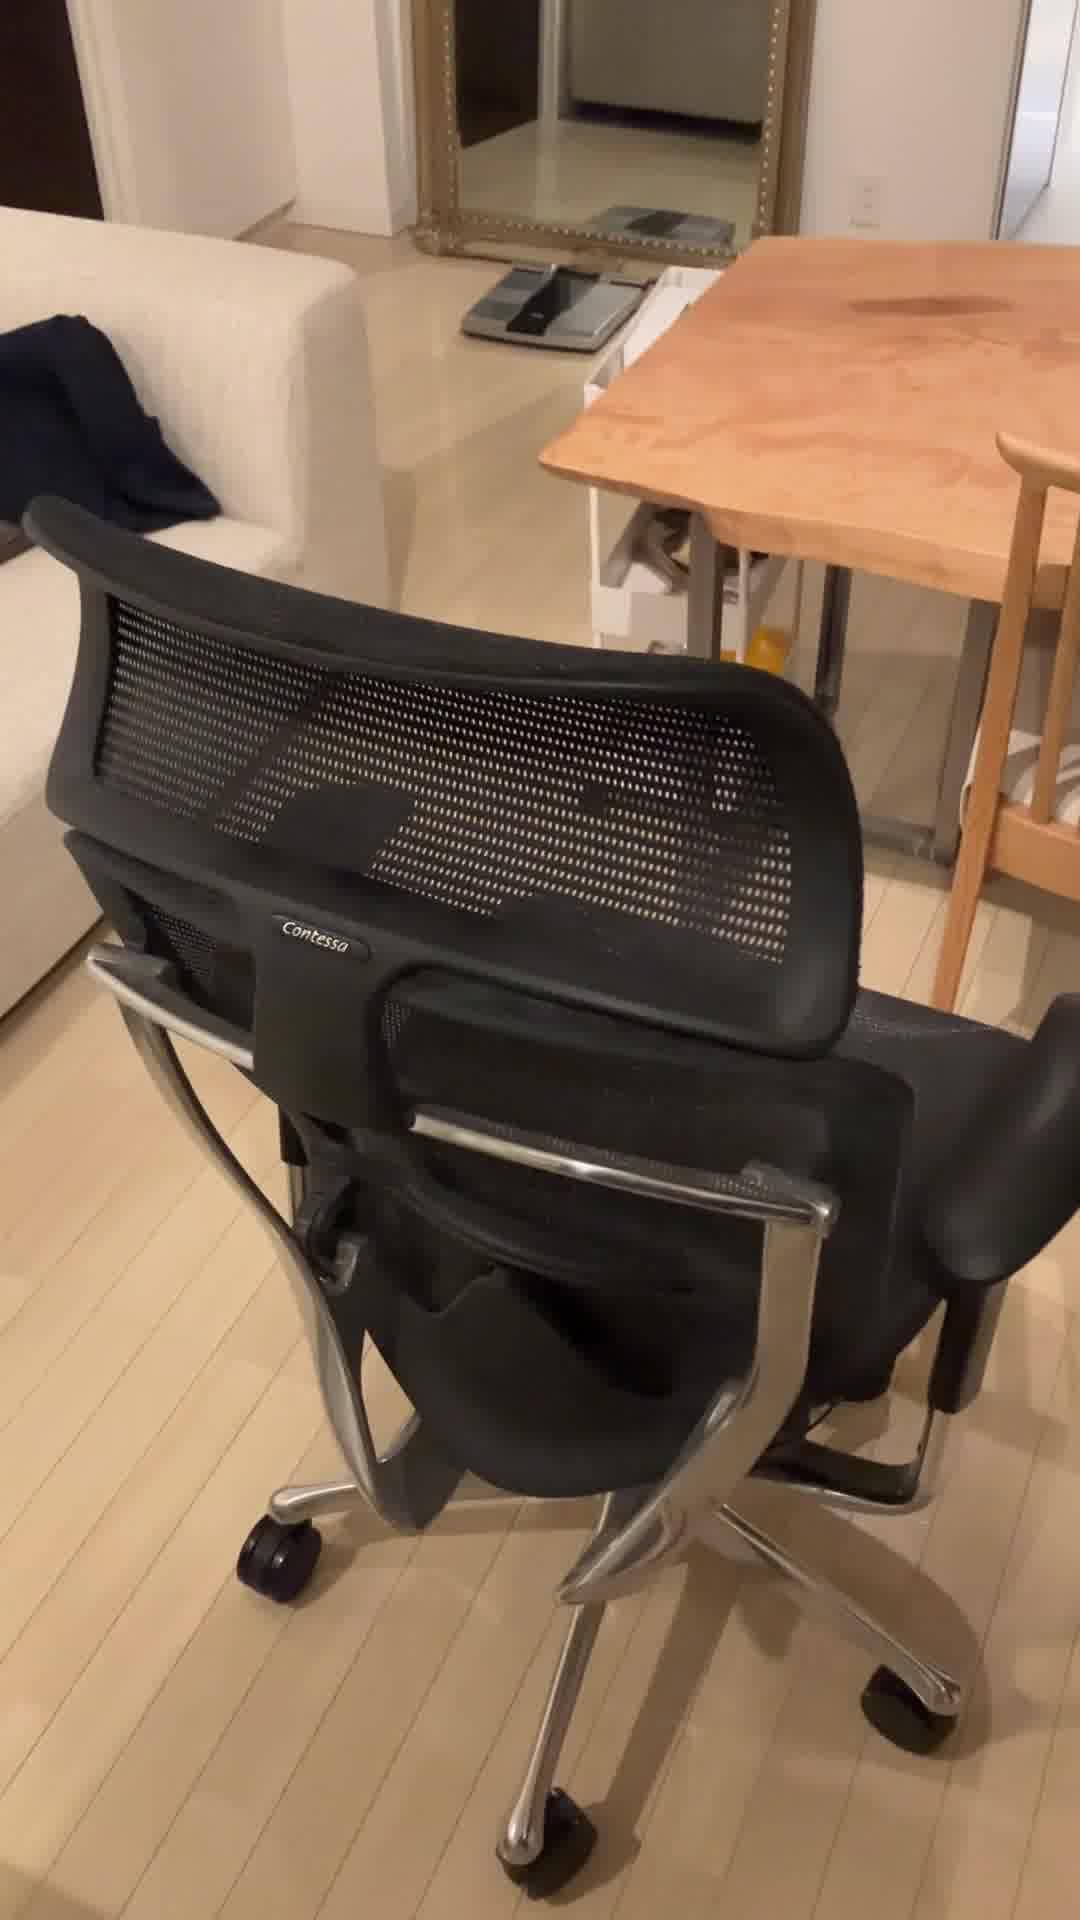okamura-contessa: (12, 491, 1080, 1896)
